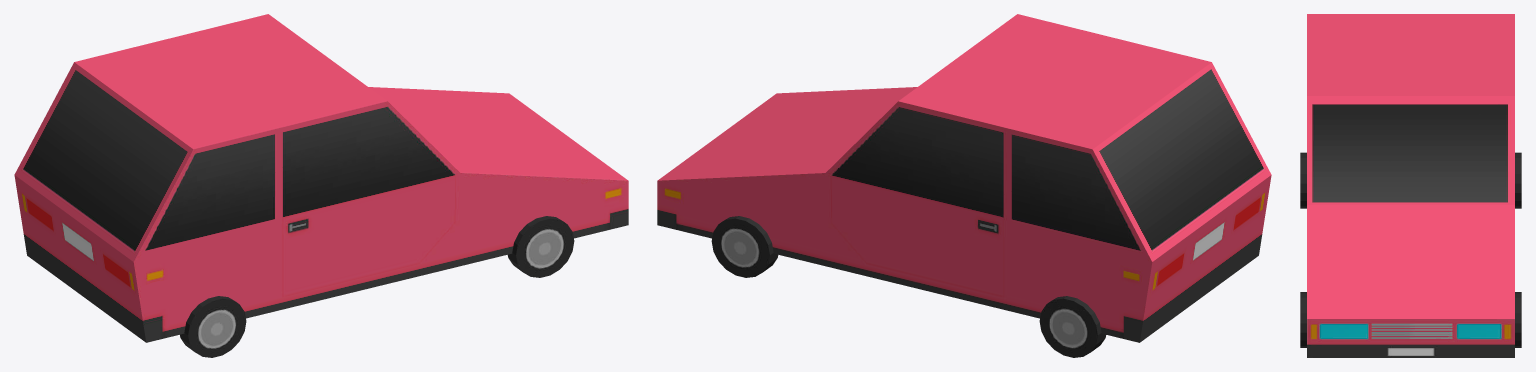
The model's file is item1.glb.
3 renders of one model, left to right at view 1: azimuth 30°, elevation 25°; view 2: azimuth 150°, elevation 25°; view 3: azimuth 270°, elevation 25°, orthographic. The views are drawn at different scales.
Visible parts, largest first — view 1: CAR_01; view 2: CAR_01; view 3: CAR_01.
Boxes of the visible parts, x1,y1,x2,y2 form: CAR_01: (14, 14, 628, 357); CAR_01: (657, 14, 1271, 357); CAR_01: (1300, 14, 1521, 357).
Size of the model in its own units: 0.7851 by 0.3187 by 0.3481.
1 material, 1 textured.
